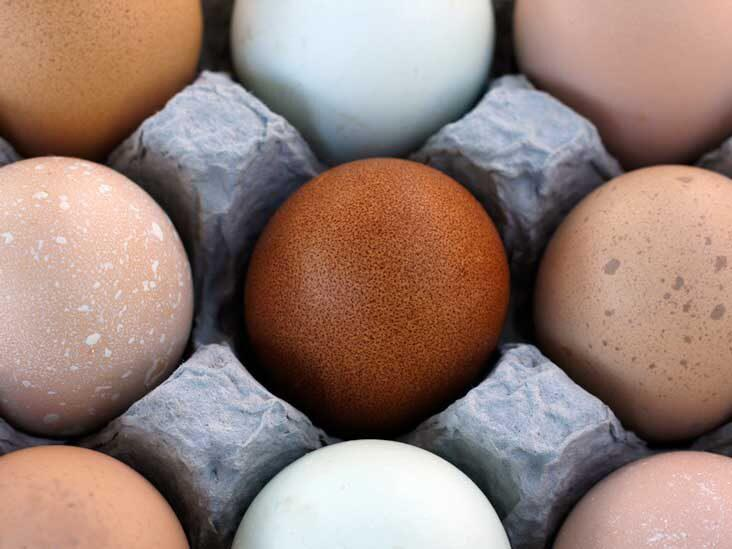egg: (236, 153, 517, 424), (527, 156, 732, 446), (1, 154, 203, 440), (228, 0, 495, 142), (513, 1, 732, 164), (228, 438, 516, 549), (0, 0, 208, 146), (0, 446, 198, 549), (547, 453, 732, 549)
